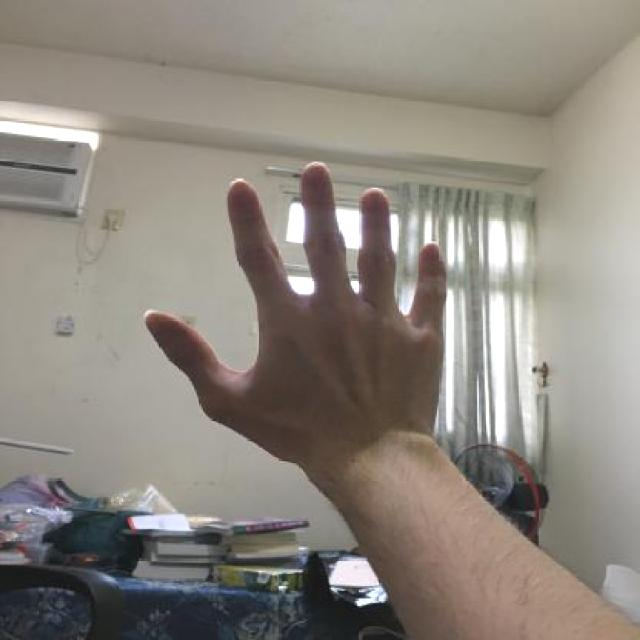no_glove: (135, 155, 459, 498)
